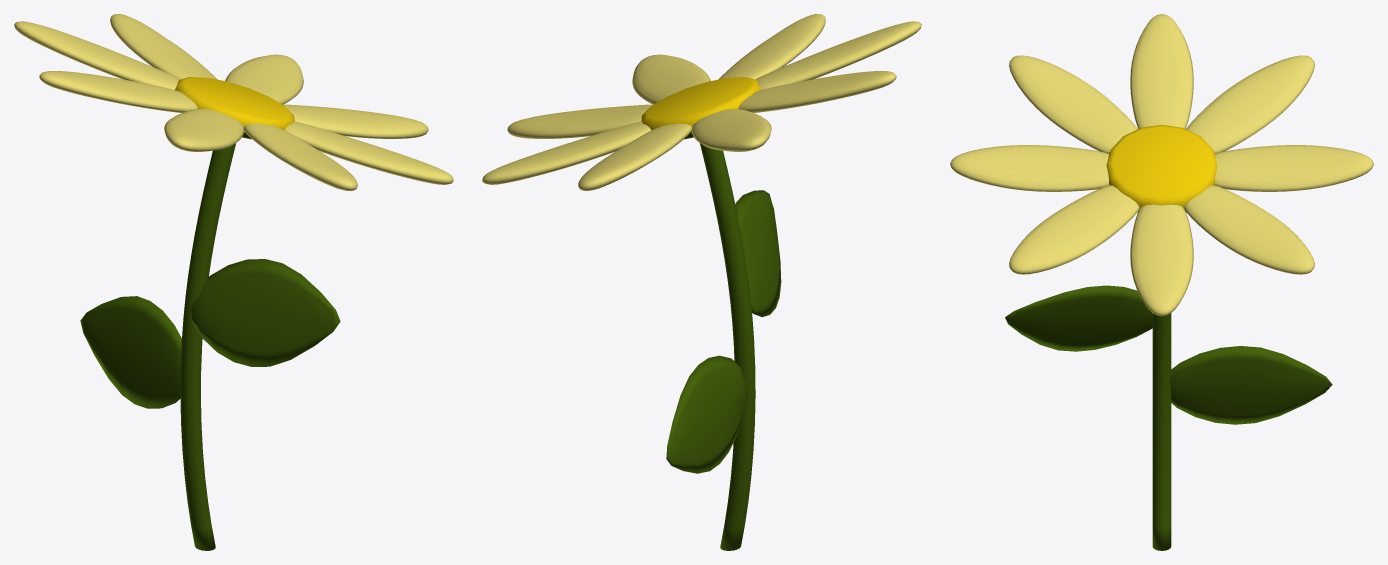
Rendered from margarida_hojas.fbx.
3 views of the same model, side by side, from view 1: azimuth 30°, elevation 25°; view 2: azimuth 150°, elevation 25°; view 3: azimuth 270°, elevation 25° (orthographic). The views are drawn at different scales.
Visible parts, largest first — view 1: FLOWER; view 2: FLOWER; view 3: FLOWER.
Boxes of the visible parts, x1,y1,x2,y2 form: FLOWER: (14,14,453,550); FLOWER: (482,14,921,550); FLOWER: (950,14,1373,550).
Size of the model in its own units: 505 by 640 by 532.
